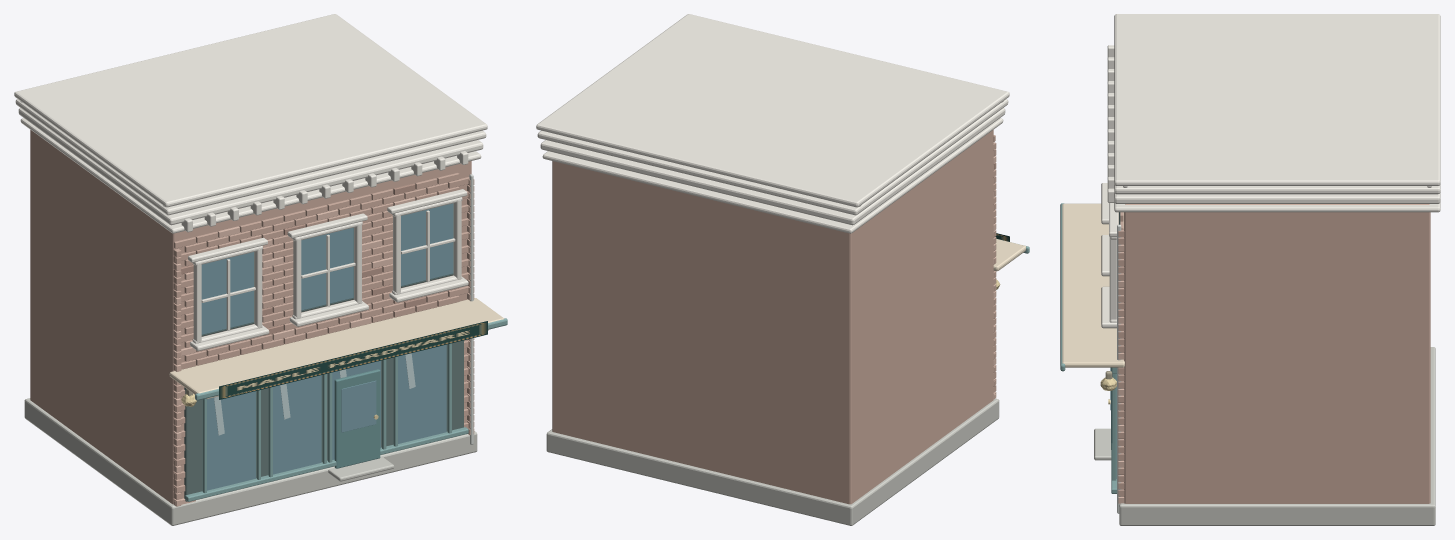
Rendered from maple_mainstreet_hardware.glb.
3 views of the same model, side by side, from view 1: azimuth 30°, elevation 25°; view 2: azimuth 150°, elevation 25°; view 3: azimuth 270°, elevation 25° (orthographic). The views are drawn at different scales.
Visible parts, largest first — view 1: Maple Junction Hardware 1926_antique_white, Maple Junction Hardware 1926_brick, Maple Junction Hardware 1926_glass, Maple Junction Hardware 1926_basement, Maple Junction Hardware 1926_awning, Maple Junction Hardware 1926_teal, Maple Junction Hardware 1926_dark_cavity, Maple Junction Hardware 1926_painted_store_sign, Maple Junction Hardware 1926_store_dark, Maple Junction Hardware 1926_brick_light, Maple Junction Hardware 1926_brick_dark, Maple Junction Hardware 1926_gutter (+1 smaller); view 2: Maple Junction Hardware 1926_brick, Maple Junction Hardware 1926_antique_white, Maple Junction Hardware 1926_basement, Maple Junction Hardware 1926_awning; view 3: Maple Junction Hardware 1926_brick, Maple Junction Hardware 1926_antique_white, Maple Junction Hardware 1926_basement, Maple Junction Hardware 1926_awning, Maple Junction Hardware 1926_teal, Maple Junction Hardware 1926_gutter.
Boxes of the visible parts, x1,y1,x2,y2 form: Maple Junction Hardware 1926_antique_white: (14, 14, 487, 351); Maple Junction Hardware 1926_brick: (30, 130, 474, 504); Maple Junction Hardware 1926_glass: (201, 203, 453, 490); Maple Junction Hardware 1926_basement: (24, 398, 477, 525); Maple Junction Hardware 1926_awning: (169, 298, 504, 399); Maple Junction Hardware 1926_teal: (185, 318, 507, 501); Maple Junction Hardware 1926_dark_cavity: (184, 203, 463, 501); Maple Junction Hardware 1926_painted_store_sign: (219, 321, 487, 399); Maple Junction Hardware 1926_store_dark: (334, 369, 380, 468); Maple Junction Hardware 1926_brick_light: (173, 192, 474, 506); Maple Junction Hardware 1926_brick_dark: (174, 183, 426, 335); Maple Junction Hardware 1926_gutter: (469, 174, 473, 444); Maple Junction Hardware 1926_brick: (552, 130, 996, 504); Maple Junction Hardware 1926_antique_white: (536, 14, 1009, 233); Maple Junction Hardware 1926_basement: (546, 398, 999, 525); Maple Junction Hardware 1926_awning: (993, 239, 1026, 271); Maple Junction Hardware 1926_brick: (1118, 204, 1430, 503); Maple Junction Hardware 1926_antique_white: (1101, 14, 1440, 328); Maple Junction Hardware 1926_basement: (1094, 347, 1435, 525); Maple Junction Hardware 1926_awning: (1062, 203, 1124, 367); Maple Junction Hardware 1926_teal: (1060, 203, 1116, 493); Maple Junction Hardware 1926_gutter: (1117, 224, 1121, 513).
Size of the model in its own units: 14.33 by 13.9 by 13.76.
16 materials, 1 textured.
